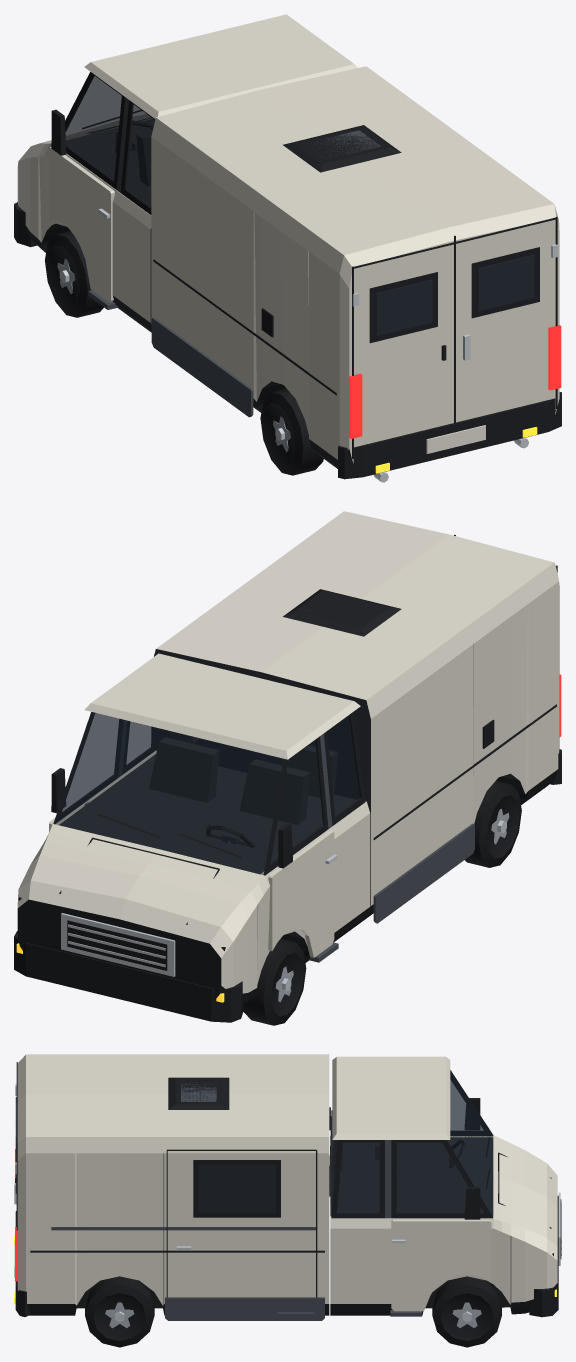
The model's file is van.glb.
3 views of the same model, one above another, from view 1: azimuth 30°, elevation 25°; view 2: azimuth 150°, elevation 25°; view 3: azimuth 270°, elevation 25° (orthographic). The views are drawn at different scales.
Visible parts, largest first — view 1: Body, DoorL, Wheel_RL, Wheel_FL; view 2: Body, DoorL, Wheel_FL, Wheel_RL, DoorR; view 3: Body, DoorR, Wheel_FR, Wheel_RR, DoorL.
Boxes of the visible parts, x1,y1,x2,y2 form: Body: (14,14,561,482); DoorL: (49,72,125,302); Wheel_RL: (260,388,323,475); Wheel_FL: (45,231,103,317); Body: (14,511,561,1022); DoorL: (263,736,337,957); Wheel_FL: (243,939,306,1025); Wheel_RL: (465,781,521,867); DoorR: (49,712,123,832); Body: (14,1054,561,1320); DoorR: (391,1140,493,1311); Wheel_FR: (432,1276,501,1347); Wheel_RR: (85,1276,154,1347); DoorL: (450,1070,493,1135).
Size of the model in its own units: 2.05 by 2.24 by 5.21.
